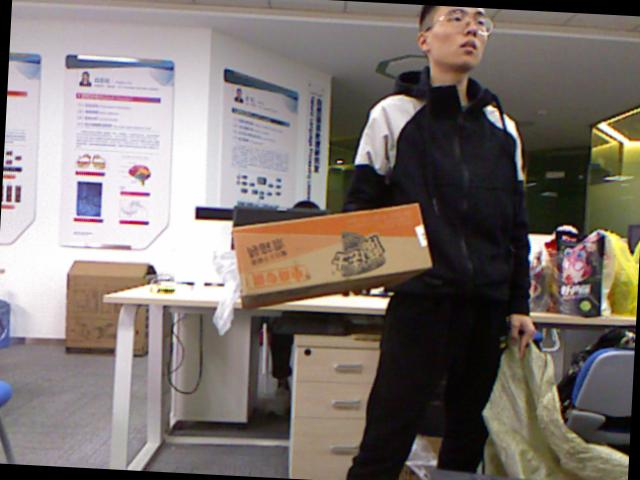cardboard paper: (232, 202, 430, 307), (66, 261, 151, 351)
